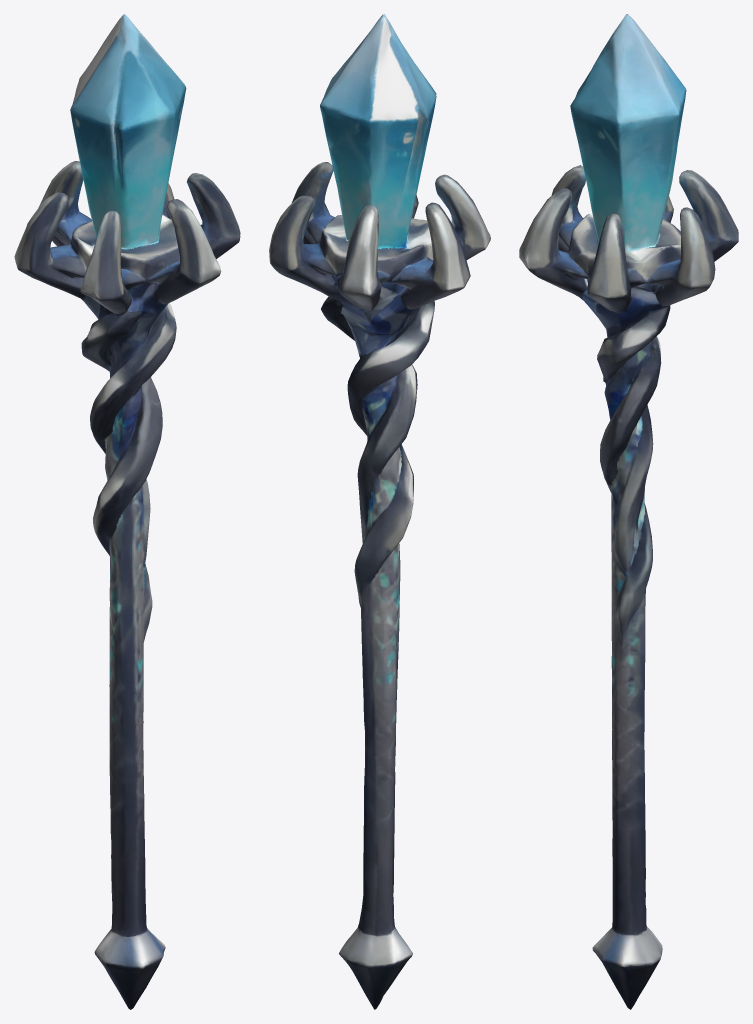
The model's file is frostine_staff_PC.glb.
3 renders of one model, left to right at view 1: azimuth 30°, elevation 25°; view 2: azimuth 150°, elevation 25°; view 3: azimuth 270°, elevation 25°, orthographic.
Visible parts, largest first — view 1: frostine_staff; view 2: frostine_staff; view 3: frostine_staff.
Boxes of the visible parts, bbox=[...] form: frostine_staff: bbox=[14, 14, 240, 1009]; frostine_staff: bbox=[269, 14, 490, 1009]; frostine_staff: bbox=[519, 14, 738, 1009].
Size of the model in its own units: 0.3636 by 1.75 by 0.3513.
1 material, 1 textured.
